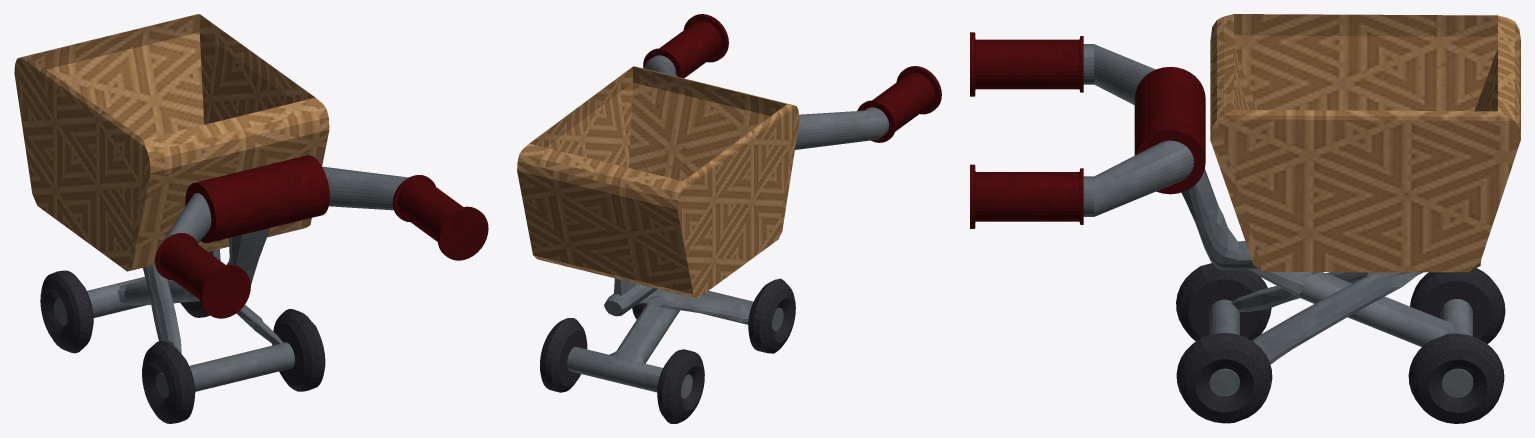
The model's file is shopping_cart_tex.glb.
The picture shows the model from 3 angles, left to right: view 1: azimuth 30°, elevation 25°; view 2: azimuth 150°, elevation 25°; view 3: azimuth 270°, elevation 25°; orthographic projection. The views are drawn at different scales.
Visible parts, largest first — view 1: Plane.005; view 2: Plane.005; view 3: Plane.005.
Part boxes in pixels (bbox=[...]): Plane.005: bbox=[14, 14, 488, 423]; Plane.005: bbox=[517, 14, 941, 423]; Plane.005: bbox=[970, 14, 1520, 423].
Size of the model in its own units: 3.08 by 2.96 by 4.5.
Materials: 4 (4 with a texture image).
